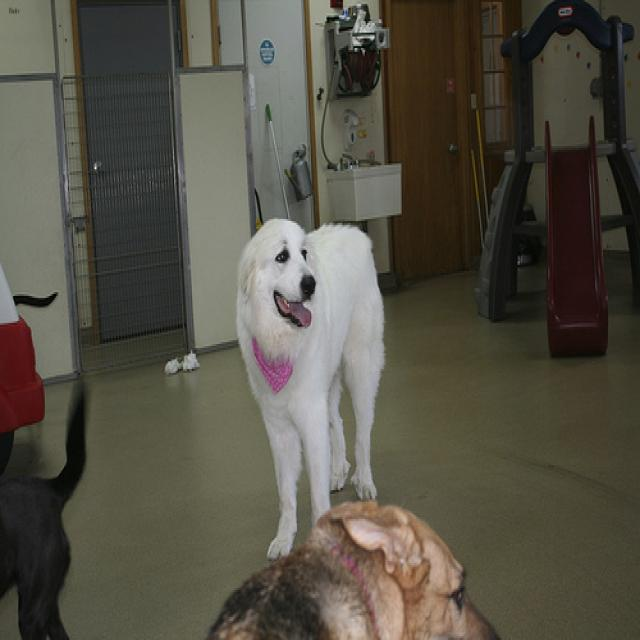dog-great_pyrenees: (225, 209, 388, 565)
